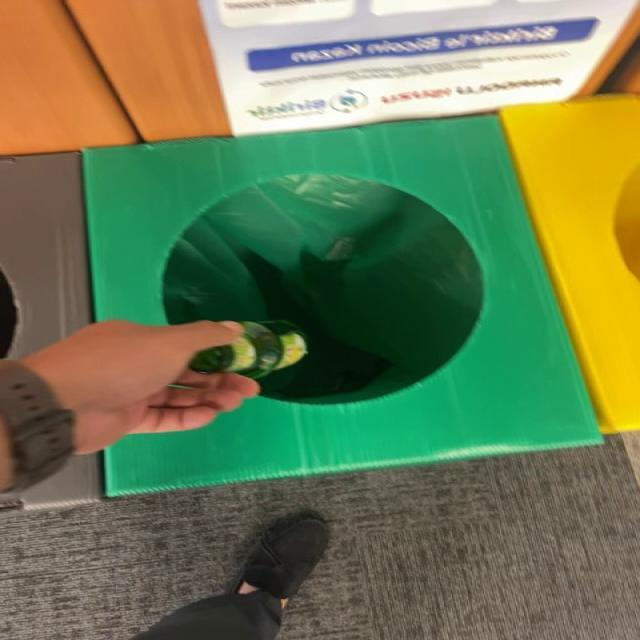Glass: (189, 322, 305, 379)
